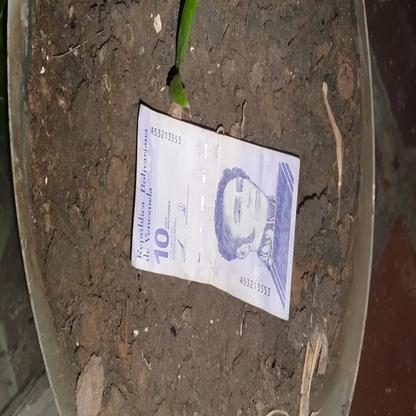ten-front-vef: (94, 130, 315, 300)
